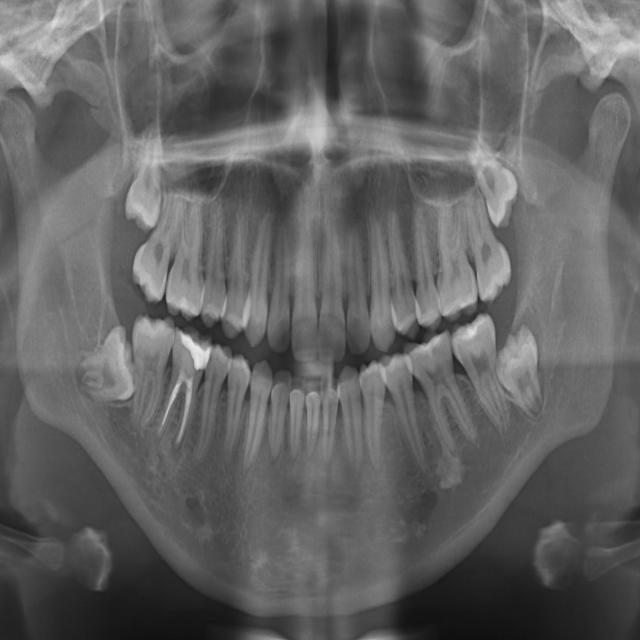CompositeResinRestoration: (181, 330, 209, 368)
DentalCaries: (208, 351, 215, 373)
ImpactedTooth: (498, 319, 556, 412), (85, 322, 134, 416)
RootCanalTreatment: (156, 369, 198, 447)
periapicalLesion: (166, 430, 186, 469)
